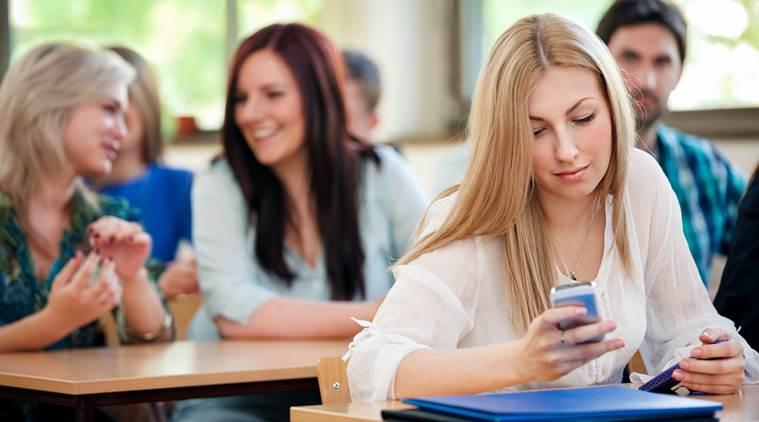phone: (347, 14, 759, 395)
